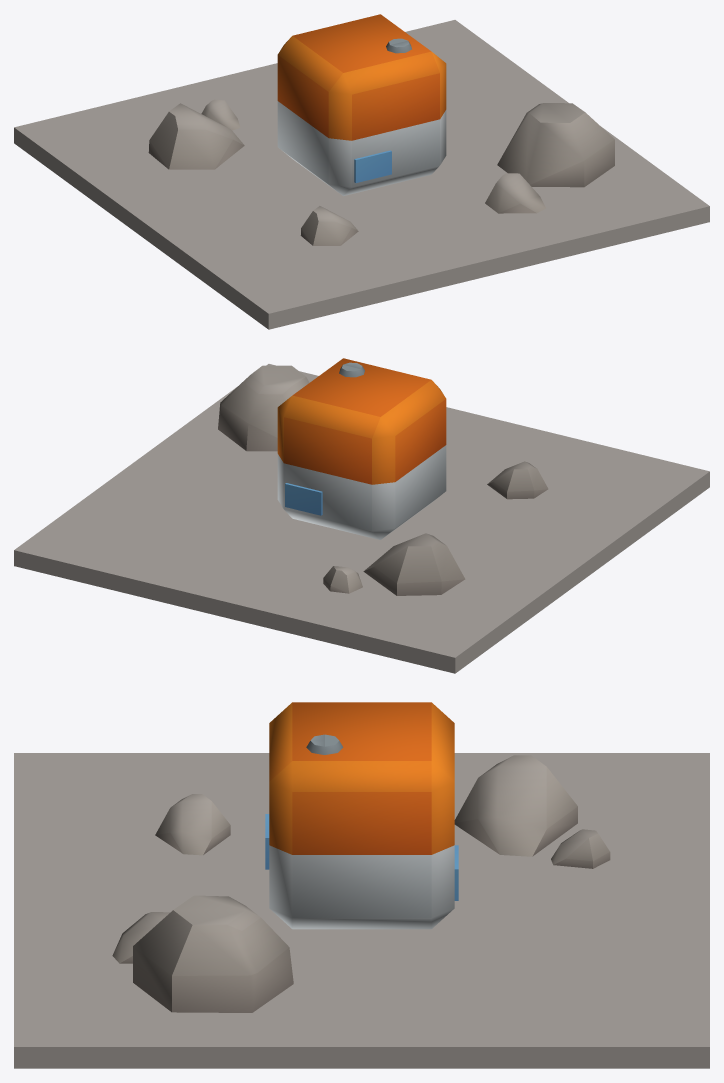
File: cargo_cube_1x1.glb
3 views of the same model, one above another, from view 1: azimuth 30°, elevation 25°; view 2: azimuth 150°, elevation 25°; view 3: azimuth 270°, elevation 25° (orthographic). The views are drawn at different scales.
Parts seen in each view (by area): view 1: Cargo_Cube_1x1; view 2: Cargo_Cube_1x1; view 3: Cargo_Cube_1x1.
Part boxes in pixels (<box>): Cargo_Cube_1x1: <box>14,14,709,329</box>; Cargo_Cube_1x1: <box>14,358,709,673</box>; Cargo_Cube_1x1: <box>14,702,709,1068</box>.
Size of the model in its own units: 0.29 by 0.0904 by 0.29.
Materials: 1 (1 with a texture image).
